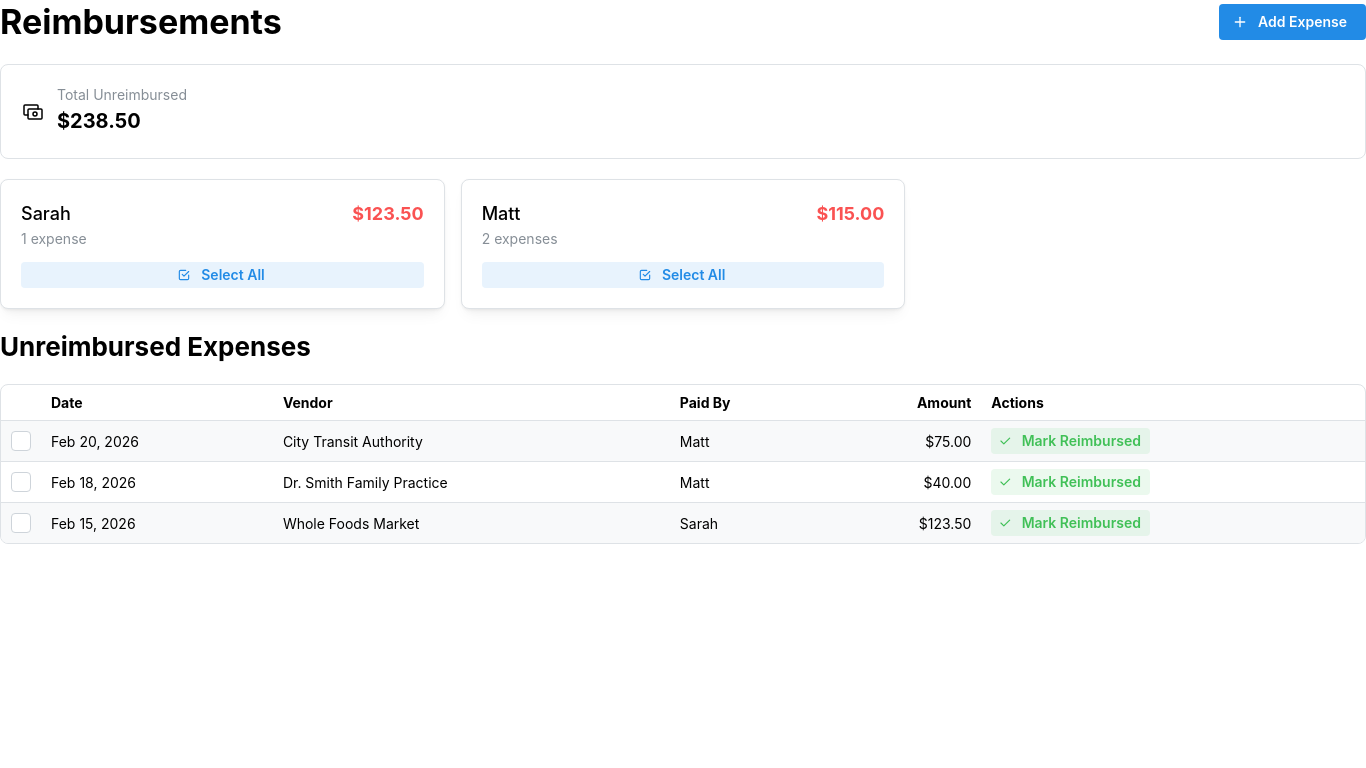
Reimbursements Page › Bulk Reimbursement › Confirmation Modal › opens confirmation modal when Reimburse Selected is clicked
Check: the table is shown, box x1=1 y1=385 x2=1365 y2=543
Click the checkbox named "select City Transit Authority".
click(21, 441)  # box x1=11 y1=431 x2=31 y2=451
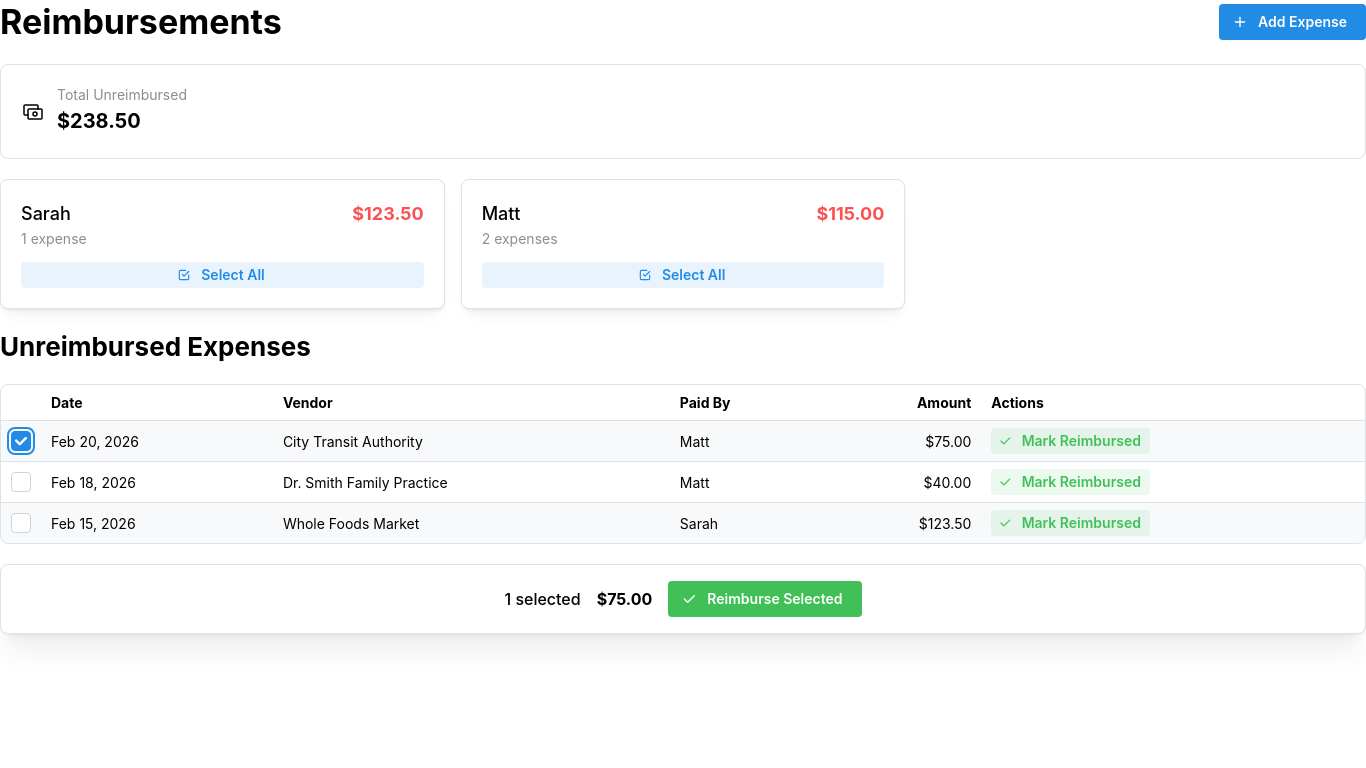
Click the button "Reimburse Selected".
click(765, 599)  # box x1=668 y1=581 x2=862 y2=617
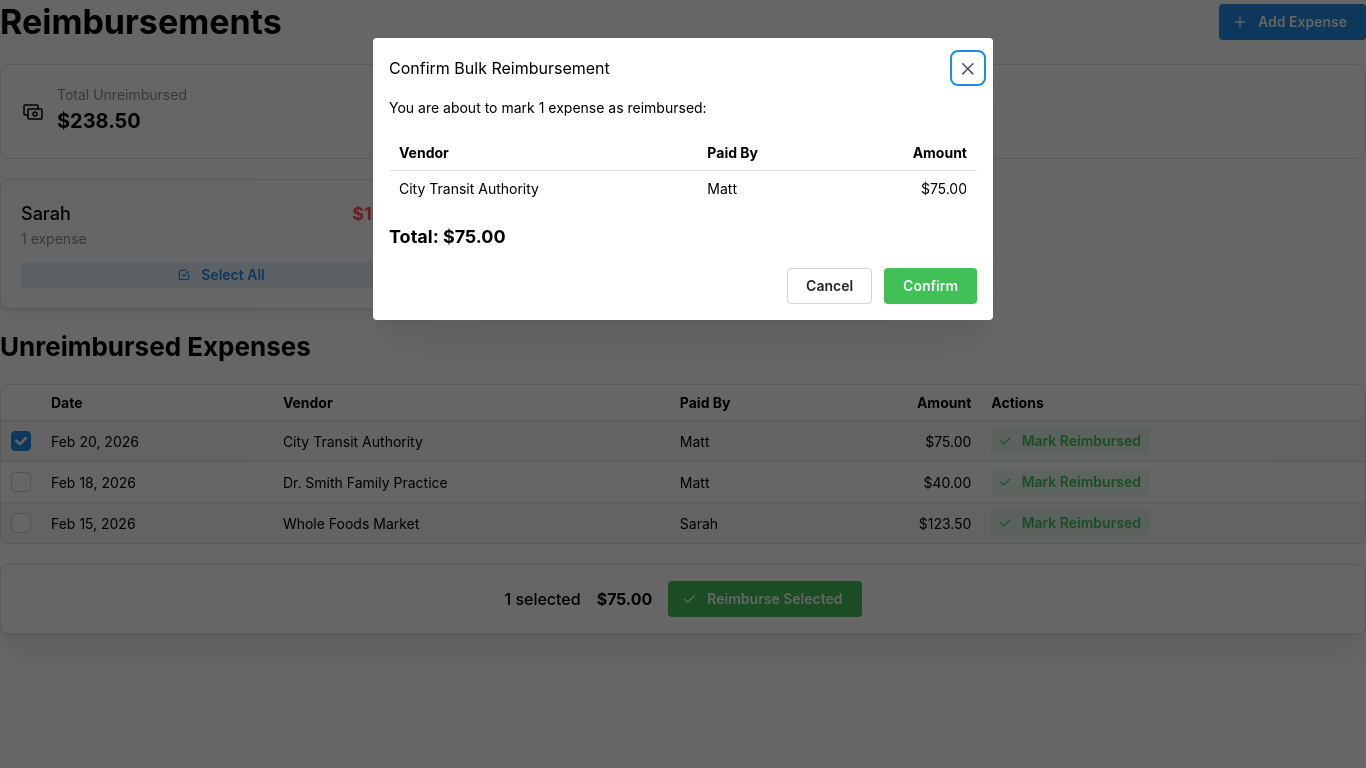
Check: the heading "Confirm Bulk Reimbursement" is shown, box x1=389 y1=60 x2=610 y2=76
Check: the button "Confirm" is shown, box x1=884 y1=268 x2=977 y2=304
